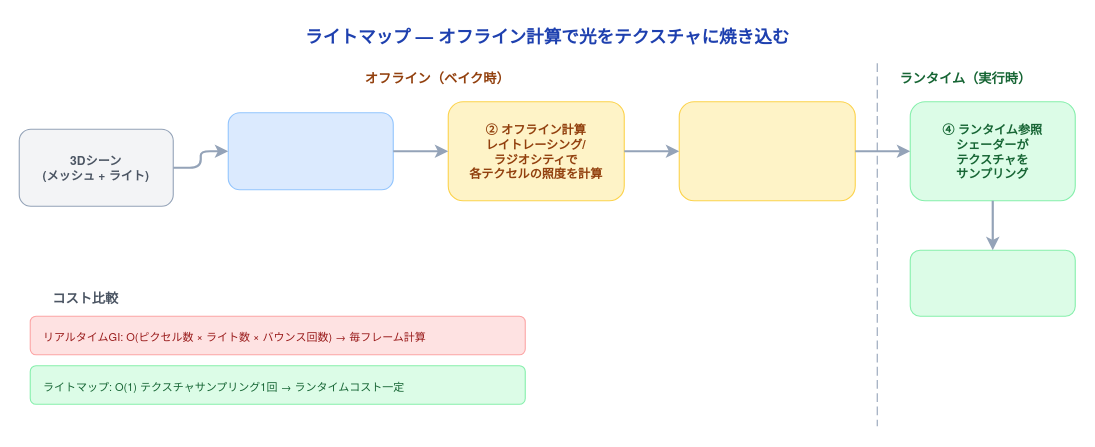
This 1095x447 diagram has some shape labels left out. The shapes that lost their labels are listed below. From the top down, each one's box as (x1, y1, x2, y2) in pixels, then its label:
(227, 112, 393, 190): ① UV展開 メッシュ表面を 2D平面に展開
(678, 101, 855, 201): ③ ライトマップ テクスチャ 照明結果を 2Dテクスチャに格納
(909, 249, 1075, 316): 最終画面 GI付きの 高品質描画
